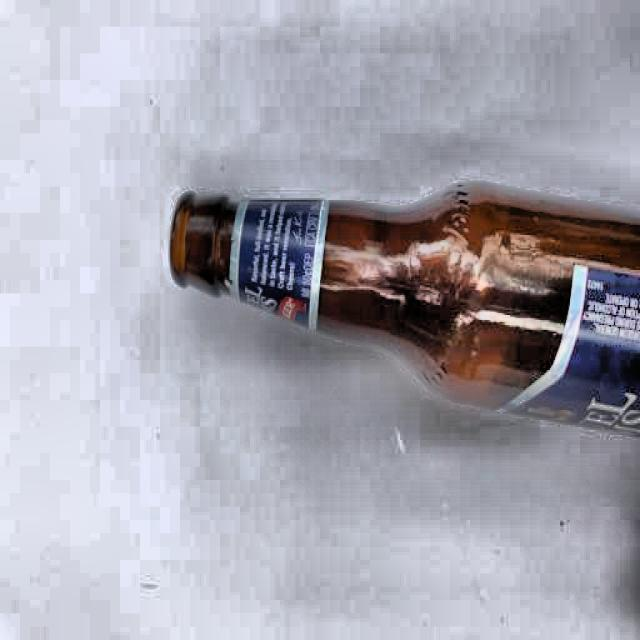glass: (171, 175, 640, 448)
